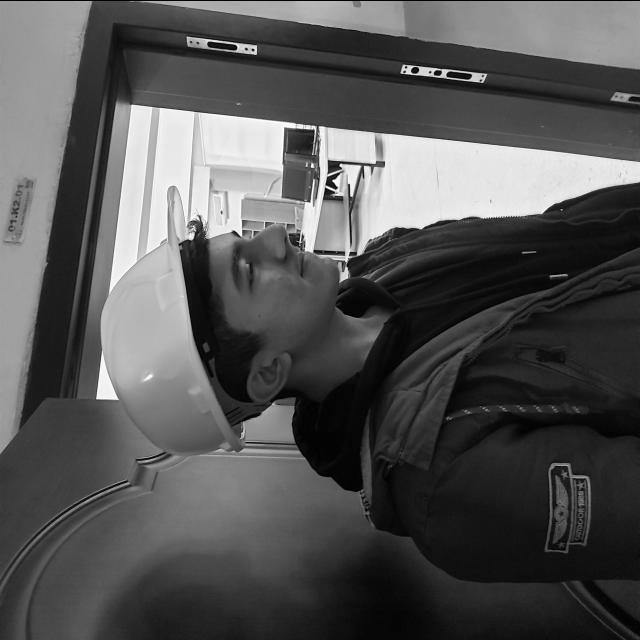construction helmet: (101, 217, 268, 455)
